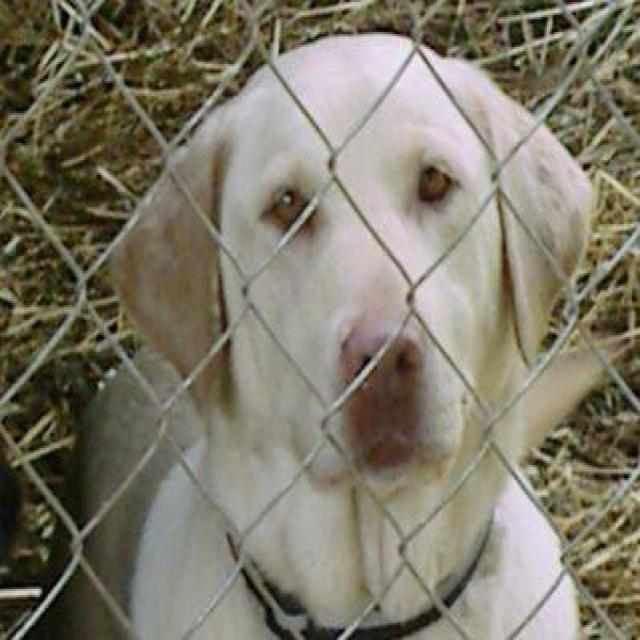sad: (114, 27, 600, 624)
